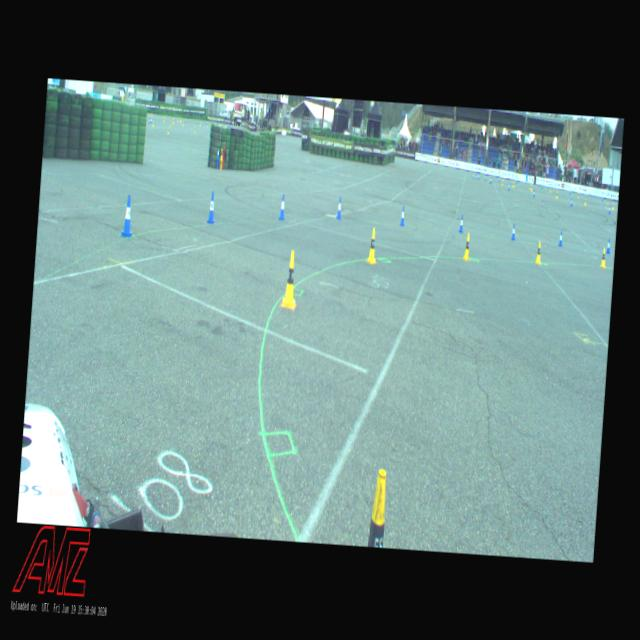blue_cone: (120, 196, 134, 237), (206, 190, 217, 223), (278, 193, 286, 219), (336, 196, 342, 219), (399, 205, 405, 226), (458, 213, 464, 233), (510, 222, 516, 240), (605, 238, 611, 254), (558, 230, 563, 246), (216, 146, 220, 160), (488, 176, 492, 184), (507, 182, 510, 192), (608, 205, 611, 214), (532, 189, 535, 198), (570, 197, 572, 206), (150, 116, 152, 124), (478, 173, 480, 180), (475, 173, 477, 180), (472, 172, 474, 179), (148, 117, 150, 124), (484, 175, 486, 181), (577, 192, 579, 198), (568, 188, 570, 194), (540, 184, 542, 188), (602, 196, 602, 201)
yellow_cone: (366, 468, 388, 546), (281, 250, 299, 308), (366, 226, 378, 264), (462, 232, 472, 260), (534, 240, 543, 264), (600, 247, 606, 267), (220, 147, 223, 161), (611, 202, 614, 210), (555, 190, 558, 198), (162, 116, 165, 122), (194, 126, 196, 134), (167, 126, 169, 134), (513, 180, 515, 188), (170, 120, 172, 127), (584, 198, 586, 205), (152, 120, 154, 127), (530, 184, 532, 191), (501, 179, 503, 185), (512, 181, 514, 187), (606, 198, 608, 203), (172, 119, 174, 124), (549, 188, 551, 192), (176, 117, 178, 121), (182, 120, 183, 126), (180, 118, 181, 121), (530, 184, 530, 190)
